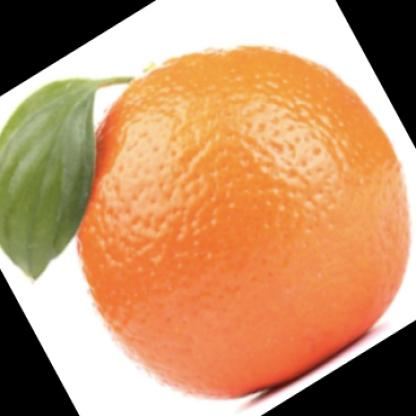fresh: (75, 46, 413, 395)
